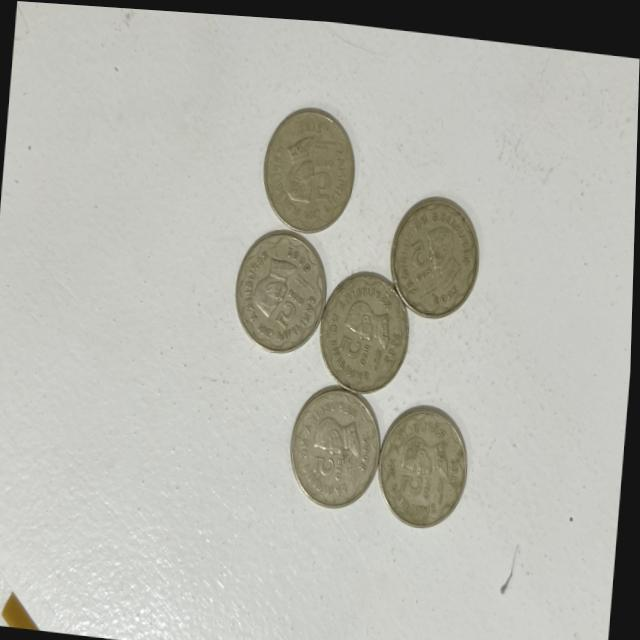5_Old_Front: (310, 440, 359, 489), (276, 275, 310, 336), (336, 323, 385, 365), (403, 220, 437, 279), (310, 147, 340, 208), (396, 463, 438, 495)
